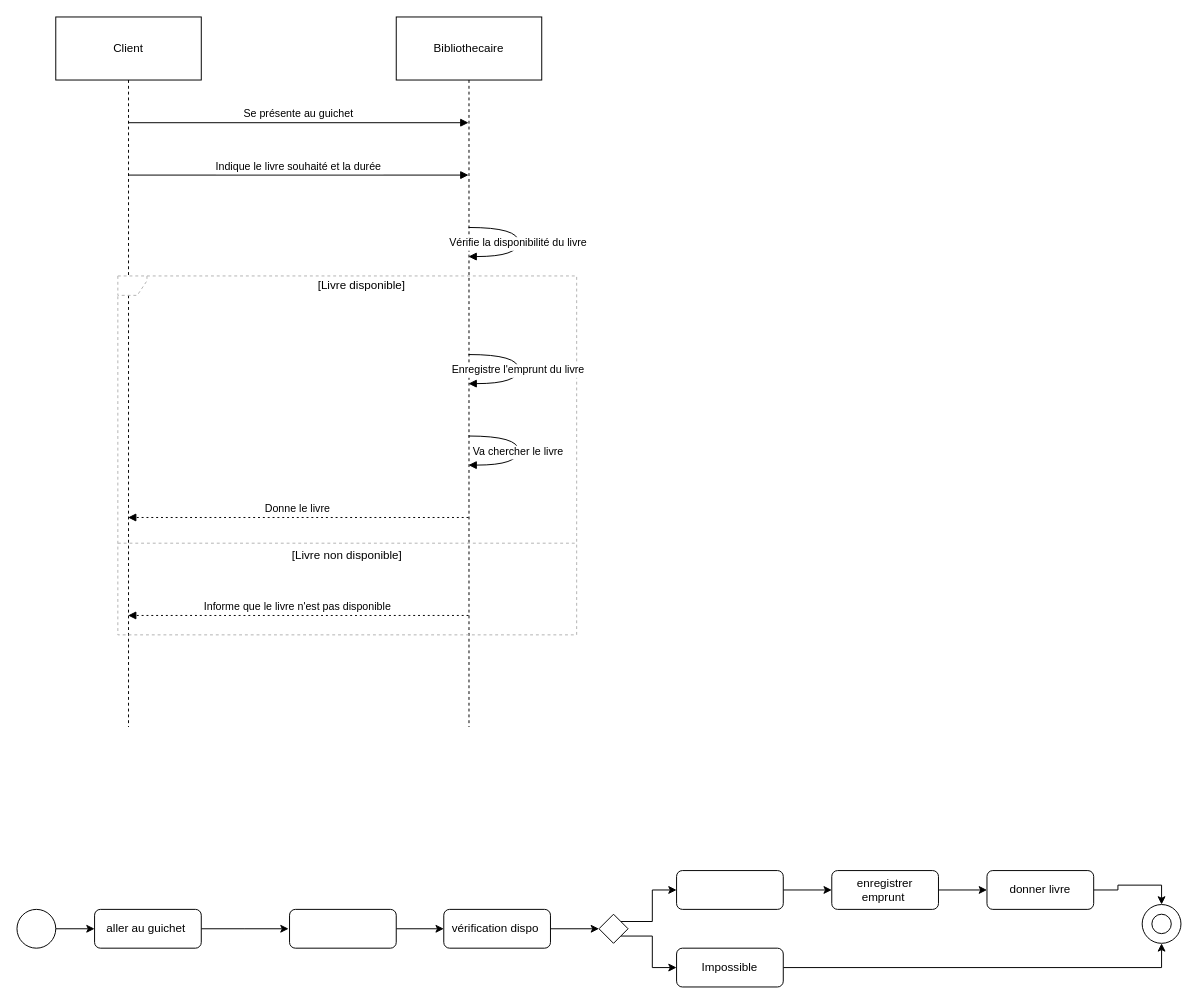
The diagram is 1198 pixels wide and 1004 high, and some of its shapes have lost their labels. The shapes that lost their labels are listed below. From the top down, each one's box as (x1, y1, x2, y2) in pixels, then its label:
(117, 275, 577, 635): alt
(676, 870, 783, 909): Possible
(289, 908, 396, 948): demander réservation livre pendant x temps
